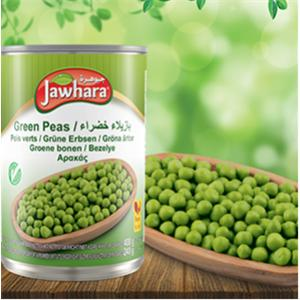boiled peas: (138, 143, 300, 281), (14, 162, 141, 245)
